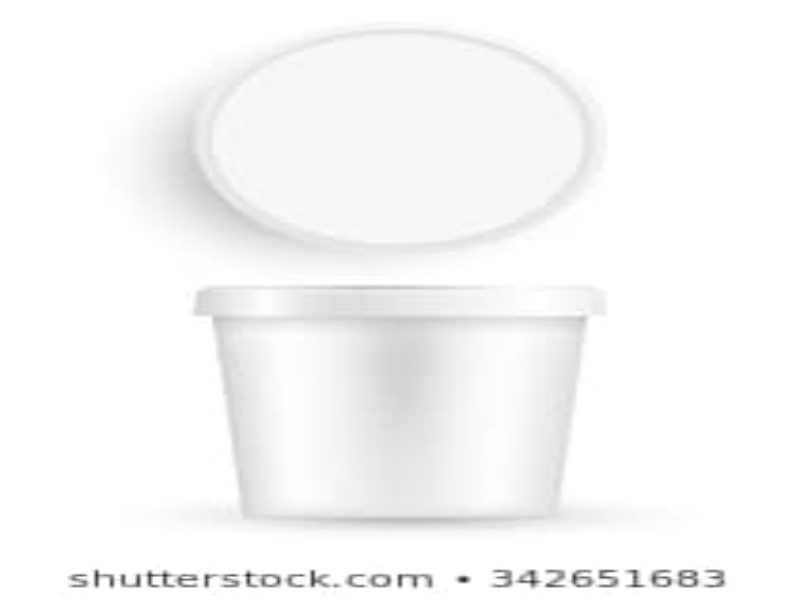plastic-container: (192, 284, 608, 523)
